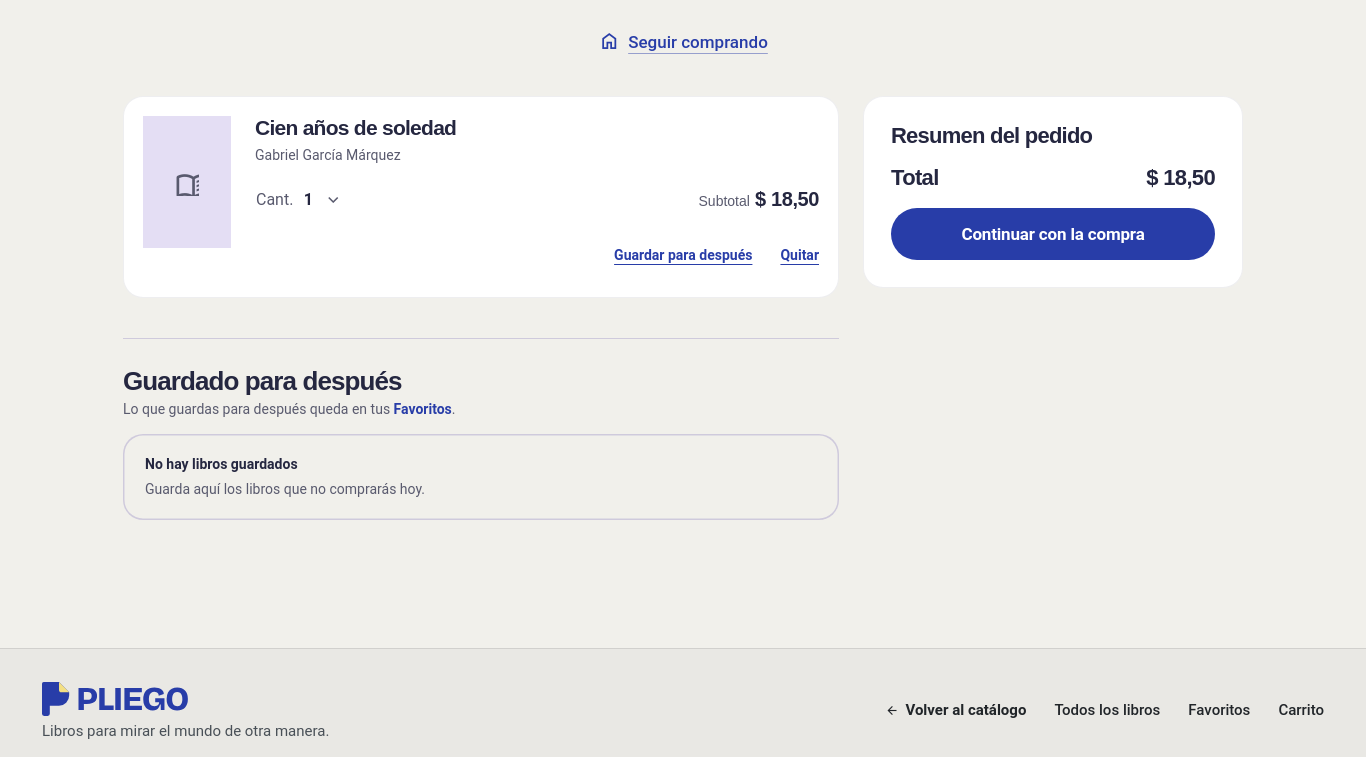
Scenario: CartPage › uses the server quantity violation as line feedback and preserves the current quantity
Click the dropdown named "Cantidad de Cien años de soledad". click: [298, 200]
box: [245, 178, 350, 222]
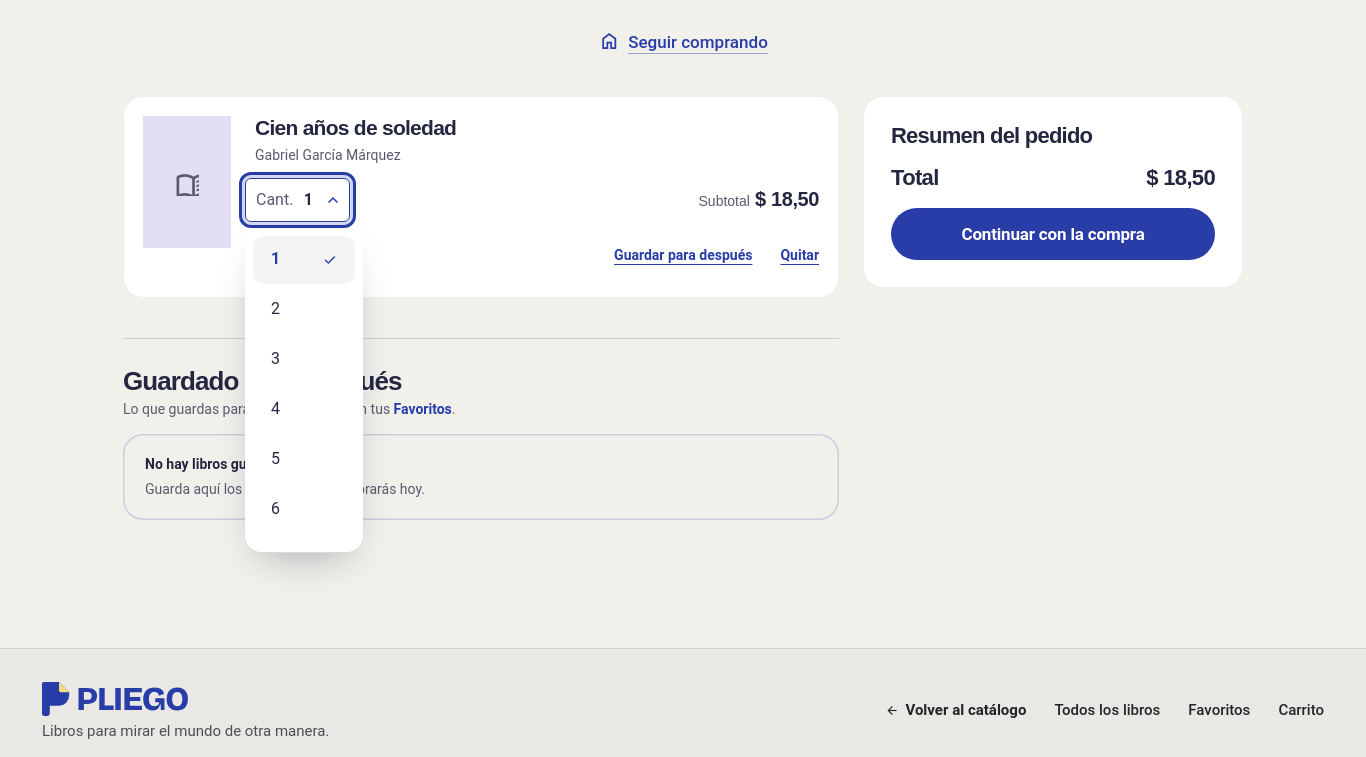
Click the option "2". click: [276, 309]
box: [271, 299, 280, 318]
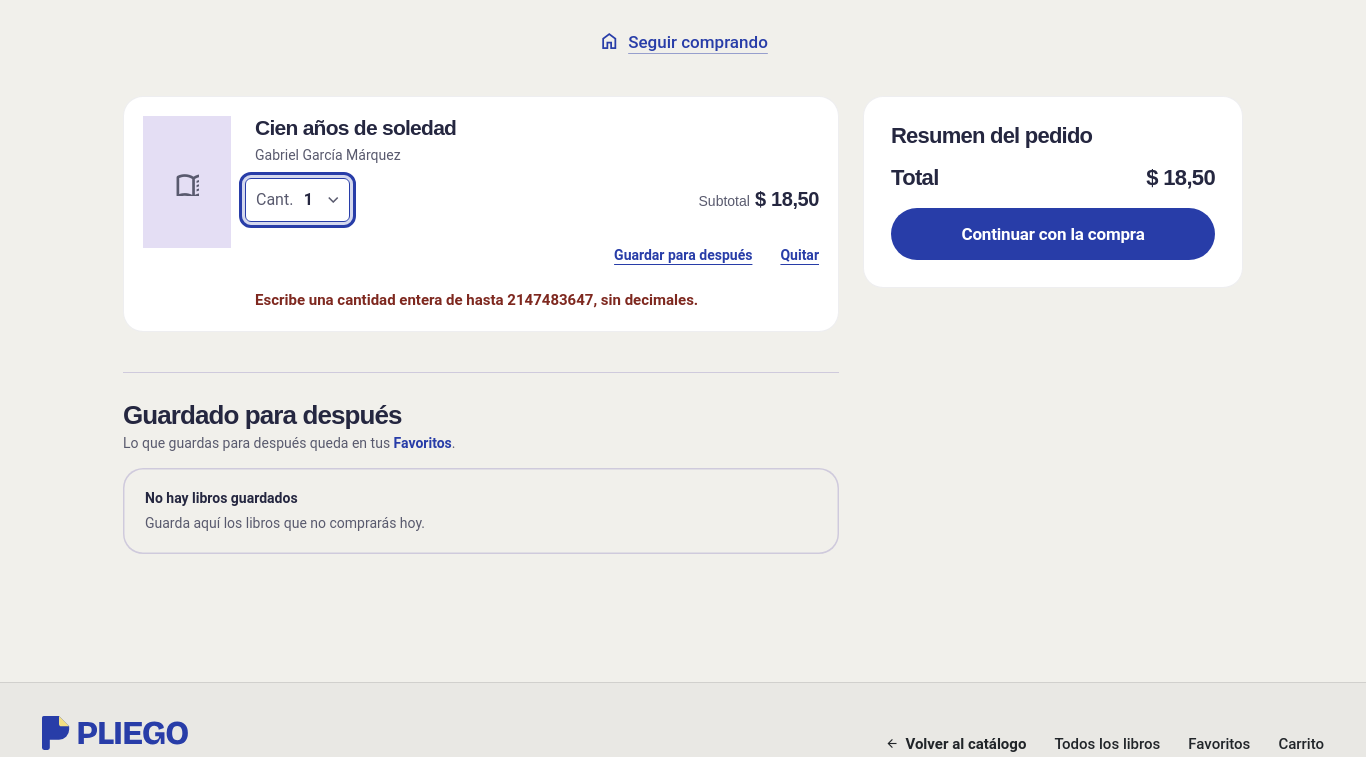
Check: the dropdown named "Cantidad de Cien años de soledad" shows "1", box [245, 178, 350, 222]
Check: the message reads "Escribe una cantidad entera de hasta 2147483647, sin decimales.", box [255, 291, 698, 309]
